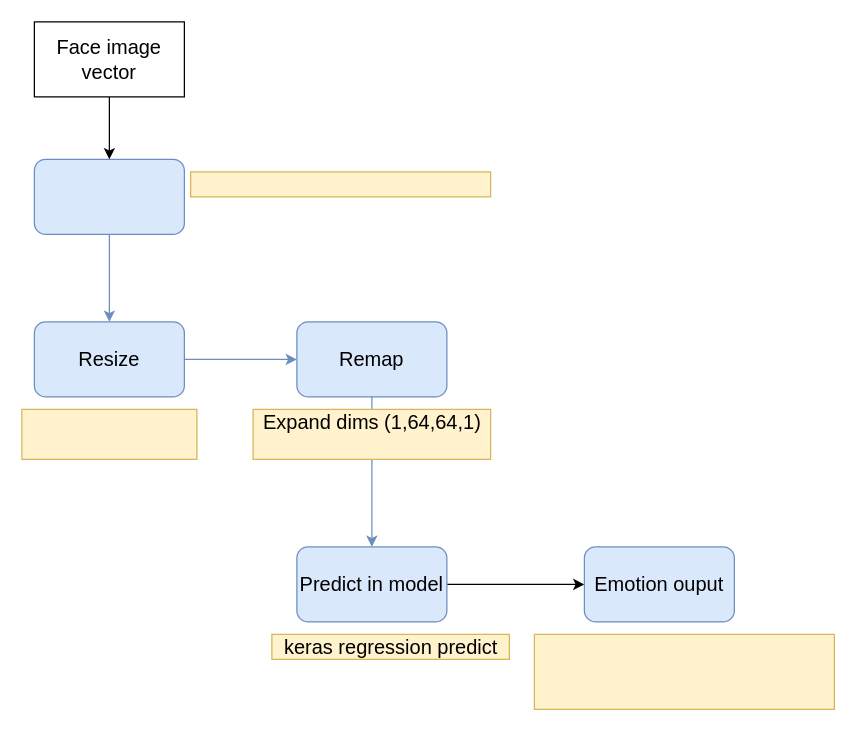
Image size: 856x731. Some labels were removed from this diagram. The shapes that lost their labels are listed below. From the top down, each one's box as (x1, y1, x2, y2) in pixels, then its label:
(33, 158, 184, 234): Grayscale
(189, 171, 491, 197): Vector rgb to convert color gray
(21, 408, 197, 459): Linear resize image into 64x64
(533, 633, 834, 709): Max of regression predict then compare to dictionary data labeled
